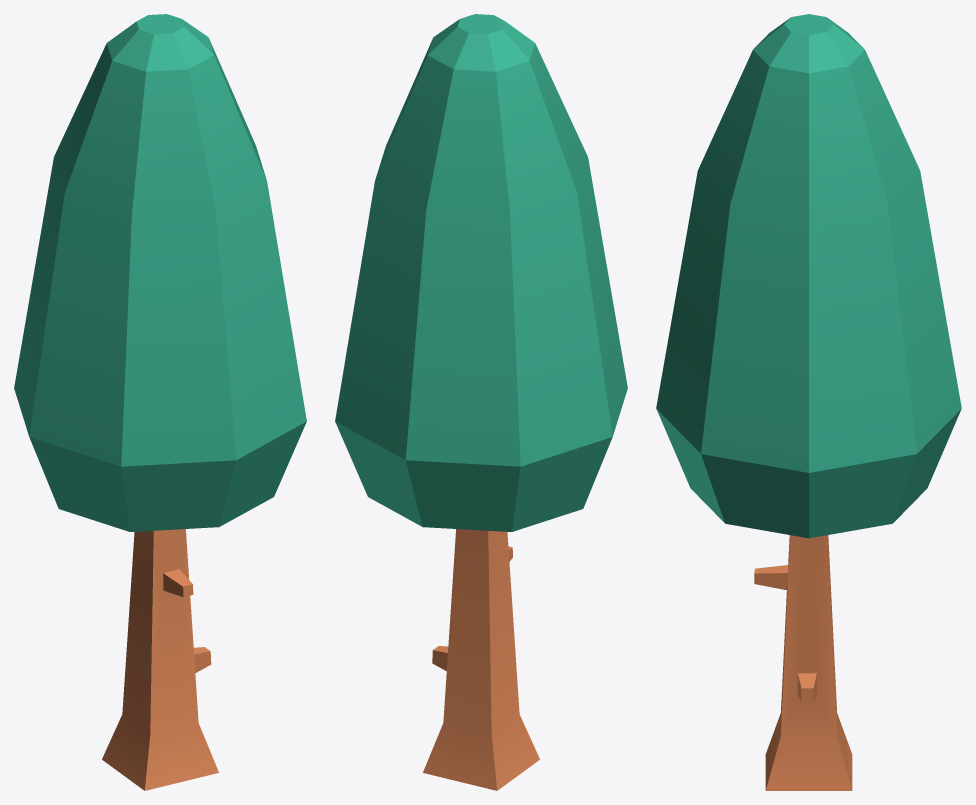
Rendered from treeHighRound.dae.
The picture shows the model from 3 angles, left to right: view 1: azimuth 30°, elevation 25°; view 2: azimuth 150°, elevation 25°; view 3: azimuth 270°, elevation 25°; orthographic projection.
Visible parts, largest first — view 1: treeHighRound; view 2: treeHighRound; view 3: treeHighRound.
Part boxes in pixels (x1,y1,x2,y2): treeHighRound: (14, 14, 306, 790); treeHighRound: (335, 14, 627, 790); treeHighRound: (656, 14, 961, 790).
Size of the model in its own units: 1.02 by 2.75 by 1.02.
